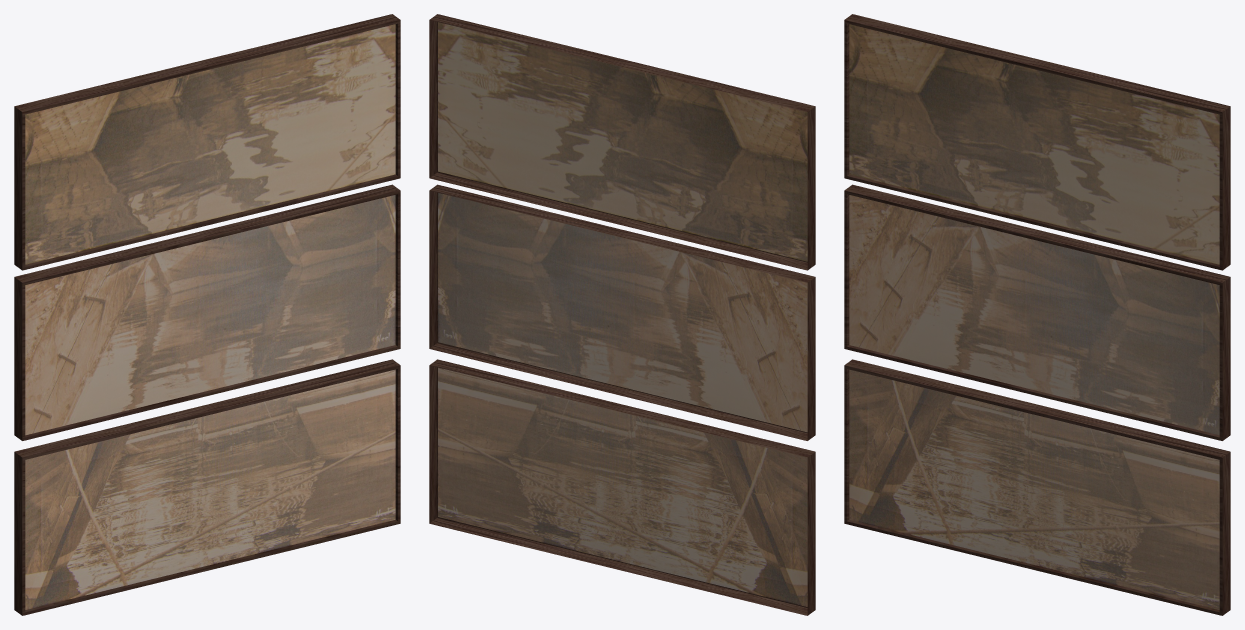
The model's file is LR_Painting02.fbx.
3 views of the same model, side by side, from view 1: azimuth 30°, elevation 25°; view 2: azimuth 150°, elevation 25°; view 3: azimuth 330°, elevation 25° (orthographic).
Visible parts, largest first — view 1: LR_Painting02; view 2: LR_Painting02; view 3: LR_Painting02.
Boxes of the visible parts, left/top/right/bottom form: LR_Painting02: left=14, top=14, right=400, bottom=615; LR_Painting02: left=429, top=14, right=815, bottom=615; LR_Painting02: left=844, top=14, right=1230, bottom=615.
Size of the model in its own units: 0.8 by 1.02 by 0.03.
